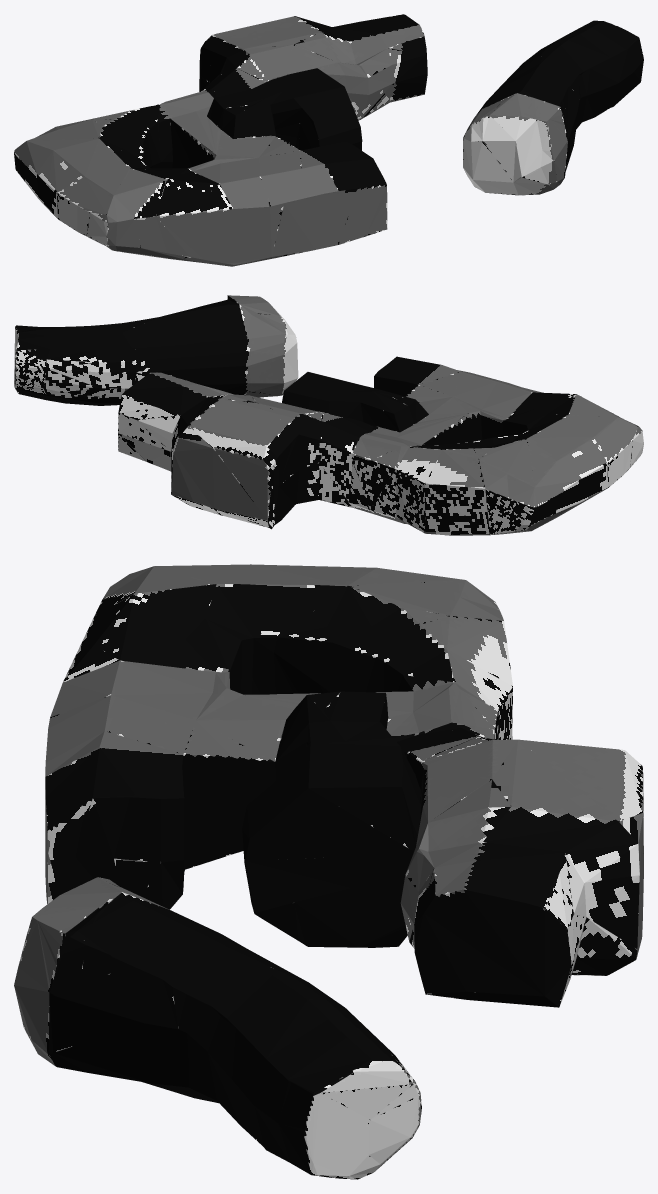
3 views of the same model, one above another, from view 1: azimuth 30°, elevation 25°; view 2: azimuth 150°, elevation 25°; view 3: azimuth 270°, elevation 25° (orthographic). The views are drawn at different scales.
Parts seen in each view (by area): view 1: OBJ0c8; view 2: OBJ0c8; view 3: OBJ0c8.
Part boxes in pixels (left/top/right/bottom): OBJ0c8: left=14, top=14, right=643, bottom=266; OBJ0c8: left=14, top=295, right=643, bottom=535; OBJ0c8: left=14, top=564, right=643, bottom=1179.
Bounding box in the file's own units: 0.3227 × 0.0531 × 0.1635.
Materials: 1 (1 with a texture image).
